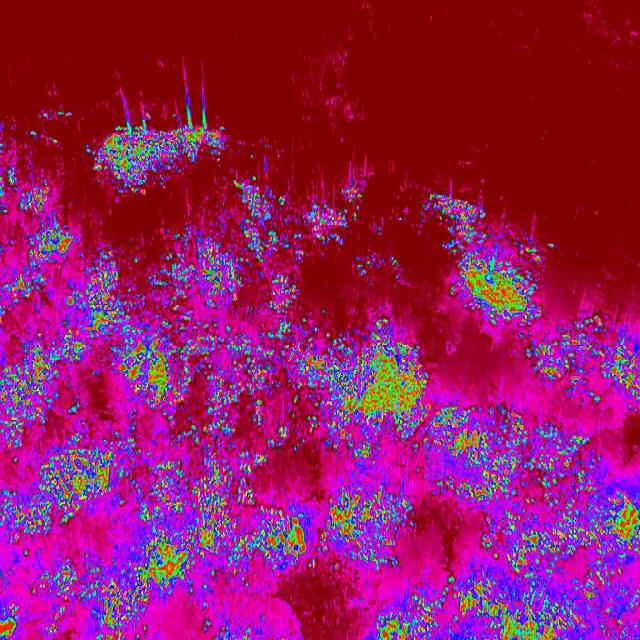fire: (0, 226, 300, 640), (482, 402, 602, 640), (299, 312, 425, 474), (430, 191, 558, 325), (218, 168, 368, 252), (90, 114, 232, 196), (514, 310, 640, 402), (322, 474, 429, 567), (362, 569, 487, 640), (0, 106, 65, 228), (425, 400, 481, 506), (603, 487, 640, 640), (352, 242, 407, 292), (300, 504, 313, 567)
